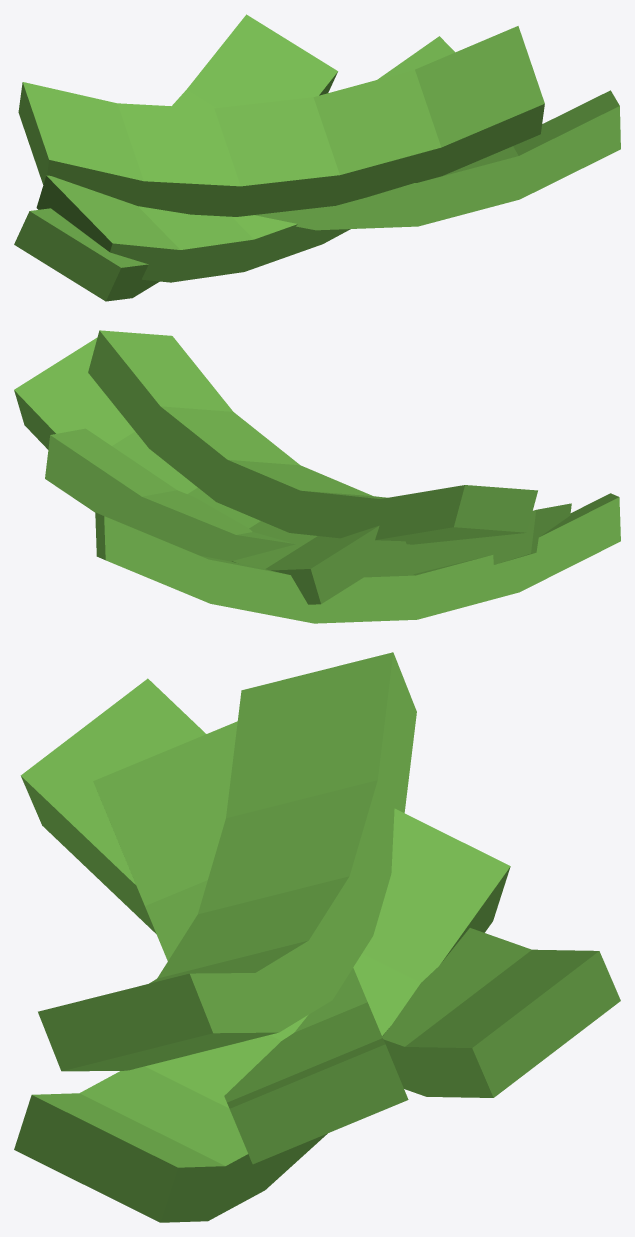
File: lettuce_whole.glb
The picture shows the model from 3 angles, top to bottom: view 1: azimuth 30°, elevation 25°; view 2: azimuth 150°, elevation 25°; view 3: azimuth 270°, elevation 25°; orthographic projection. The views are drawn at different scales.
Parts seen in each view (by area): view 1: lettuce_whole_0; view 2: lettuce_whole_0; view 3: lettuce_whole_0.
Boxes of the visible parts, box(x1,y1,x2,y2) form: lettuce_whole_0: box(14, 14, 620, 301); lettuce_whole_0: box(14, 330, 620, 623); lettuce_whole_0: box(14, 652, 620, 1222).
Size of the model in its own units: 0.1888 by 0.0563 by 0.1079.
